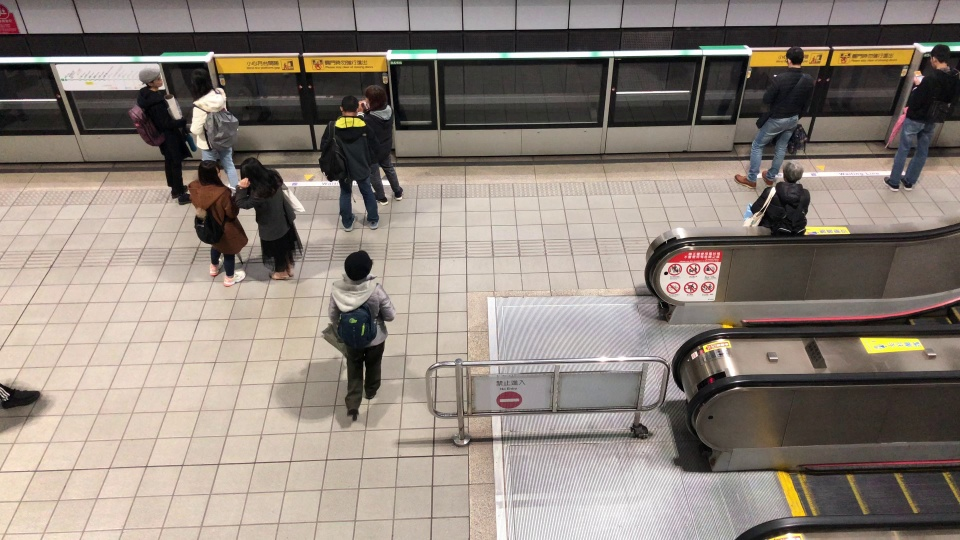person_head: (342, 251, 373, 283), (239, 156, 267, 189), (196, 159, 224, 188), (363, 84, 388, 112), (926, 44, 951, 71), (191, 69, 213, 99), (781, 158, 805, 185), (137, 67, 163, 90), (782, 46, 805, 69), (339, 94, 359, 118)
person_vbox: (326, 251, 397, 420), (734, 46, 816, 190), (882, 43, 959, 195), (127, 66, 197, 206), (233, 156, 306, 283), (317, 94, 380, 232), (184, 159, 251, 287), (187, 68, 241, 195), (356, 84, 404, 205), (745, 158, 812, 238)
